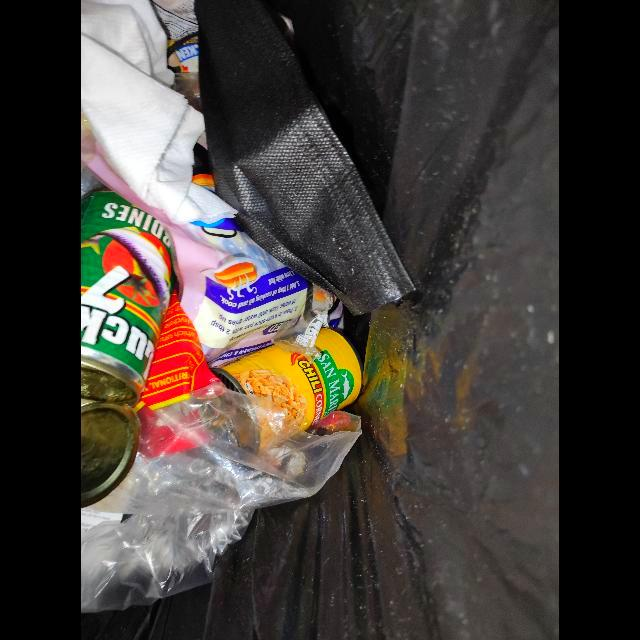aluminum: (81, 190, 175, 511), (210, 327, 362, 435)
food_wrapper: (81, 128, 314, 369), (138, 289, 221, 459)
paper: (81, 0, 238, 228)
plastic_bag: (81, 392, 363, 615)
